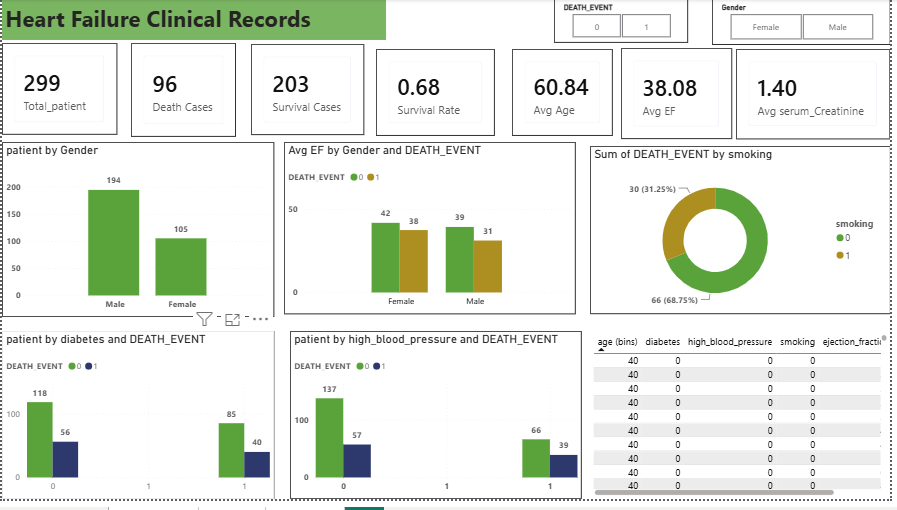

Layout of this report page (visuals, bound fields, positions):
{"tool":"powerbi","page":{"name":"overview","canvas":[1280,720],"ordinal":0},"visuals":[{"type":"cardVisual","fields":{"Data":["heart_failure_clinical_records_dataset.Total_patient"]},"box":[0,63.4,165.6,132.5],"z":0},{"type":"cardVisual","fields":{"Data":["heart_failure_clinical_records_dataset.Death_cases"]},"box":[185.8,63.4,151.2,135.4],"z":1000},{"type":"cardVisual","fields":{"Data":["heart_failure_clinical_records_dataset.Survival Cases"]},"box":[358.6,64.8,162.7,131],"z":2000},{"type":"clusteredColumnChart","fields":{"Category":["heart_failure_clinical_records_dataset.Gender"],"Y":["heart_failure_clinical_records_dataset.Total_patient"]},"box":[0,206.6,391.7,252],"z":3000},{"type":"clusteredColumnChart","fields":{"Category":["heart_failure_clinical_records_dataset.Gender"],"Y":["heart_failure_clinical_records_dataset.Avg EF"],"Series":["heart_failure_clinical_records_dataset.DEATH_EVENT"]},"box":[406.1,205.9,420.5,247.7],"z":4000},{"type":"donutChart","fields":{"Category":["heart_failure_clinical_records_dataset.smoking"],"Y":["Sum(heart_failure_clinical_records_dataset.DEATH_EVENT)"]},"box":[846.6,211.7,433.4,241.9],"z":5000},{"type":"clusteredColumnChart","fields":{"Category":["heart_failure_clinical_records_dataset.diabetes"],"Series":["heart_failure_clinical_records_dataset.DEATH_EVENT"],"Y":["heart_failure_clinical_records_dataset.Total_patient"]},"box":[0,478.7,391.7,241.9],"z":6000},{"type":"cardVisual","fields":{"Data":["heart_failure_clinical_records_dataset.Avg Age"]},"box":[734.4,72,145.4,125.3],"z":7000},{"type":"cardVisual","fields":{"Data":["heart_failure_clinical_records_dataset.Avg EF"]},"box":[891.4,70.6,159.8,131],"z":8000},{"type":"cardVisual","fields":{"Data":["heart_failure_clinical_records_dataset.Avg Creatinine"]},"box":[1057,72,221.8,129.6],"z":9000},{"type":"clusteredColumnChart","fields":{"Category":["heart_failure_clinical_records_dataset.high_blood_pressure"],"Series":["heart_failure_clinical_records_dataset.DEATH_EVENT"],"Y":["heart_failure_clinical_records_dataset.Total_patient"]},"box":[414.9,478.7,419.9,241.9],"z":10000},{"type":"textbox","box":[0,0,552.7,58.8],"z":12000},{"type":"actionButton","box":[0,0,100,40],"z":16000},{"type":"slicer","fields":{"Values":["heart_failure_clinical_records_dataset.Gender"]},"box":[1023,0,257,65.5],"z":16002},{"type":"tableEx","fields":{"Values":["heart_failure_clinical_records_dataset.age (bins)","heart_failure_clinical_records_dataset.diabetes","heart_failure_clinical_records_dataset.high_blood_pressure","heart_failure_clinical_records_dataset.smoking","heart_failure_clinical_records_dataset.ejection_fraction","heart_failure_clinical_records_dataset.anaemia"]},"box":[846.6,478.7,433.4,241.9],"z":16003},{"type":"slicer","fields":{"Values":["heart_failure_clinical_records_dataset.DEATH_EVENT"]},"box":[794.9,0,193,63.4],"z":16004},{"type":"cardVisual","fields":{"Data":["heart_failure_clinical_records_dataset.Survival Rate"]},"box":[538.6,72,171.4,125.3],"z":16005}]}

Visuals, with their boxes in screenshot pixels (x1, y1, x2, y2), scaled from the page's 1280x720 canvas onto the 897x510 screenshot:
cardVisual - heart_failure_clinical_records_dataset.Total_patient: crop(0, 45, 116, 139)
cardVisual - heart_failure_clinical_records_dataset.Death_cases: crop(130, 45, 236, 141)
cardVisual - heart_failure_clinical_records_dataset.Survival Cases: crop(251, 46, 365, 139)
clusteredColumnChart - heart_failure_clinical_records_dataset.Gender x heart_failure_clinical_records_dataset.Total_patient: crop(0, 146, 274, 325)
clusteredColumnChart - heart_failure_clinical_records_dataset.Gender x heart_failure_clinical_records_dataset.Avg EF: crop(285, 146, 579, 321)
donutChart - heart_failure_clinical_records_dataset.smoking x Sum(heart_failure_clinical_records_dataset.DEATH_EVENT): crop(593, 150, 896, 321)
clusteredColumnChart - heart_failure_clinical_records_dataset.diabetes x heart_failure_clinical_records_dataset.DEATH_EVENT: crop(0, 339, 274, 509)
cardVisual - heart_failure_clinical_records_dataset.Avg Age: crop(515, 51, 617, 140)
cardVisual - heart_failure_clinical_records_dataset.Avg EF: crop(625, 50, 737, 143)
cardVisual - heart_failure_clinical_records_dataset.Avg Creatinine: crop(741, 51, 896, 143)
clusteredColumnChart - heart_failure_clinical_records_dataset.high_blood_pressure x heart_failure_clinical_records_dataset.DEATH_EVENT: crop(291, 339, 585, 509)
textbox: crop(0, 0, 387, 42)
actionButton: crop(0, 0, 70, 28)
slicer - heart_failure_clinical_records_dataset.Gender: crop(717, 0, 896, 46)
tableEx - heart_failure_clinical_records_dataset.age (bins) x heart_failure_clinical_records_dataset.diabetes: crop(593, 339, 896, 509)
slicer - heart_failure_clinical_records_dataset.DEATH_EVENT: crop(557, 0, 692, 45)
cardVisual - heart_failure_clinical_records_dataset.Survival Rate: crop(377, 51, 498, 140)
